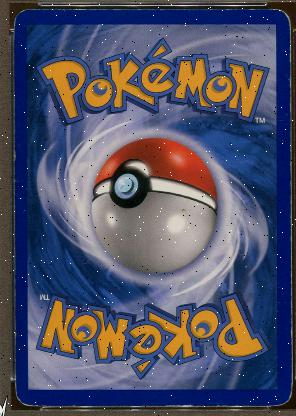Card: (12, 8, 292, 406)
Corner Wear: (14, 381, 39, 407), (270, 382, 292, 405), (270, 9, 290, 32), (12, 9, 24, 29)
Edge Wear: (287, 157, 291, 385), (32, 7, 182, 10), (286, 32, 290, 130), (156, 404, 247, 406), (14, 94, 16, 162), (28, 404, 95, 406), (14, 249, 16, 309), (222, 8, 270, 10), (15, 317, 17, 347), (14, 174, 18, 186), (206, 8, 214, 10)
